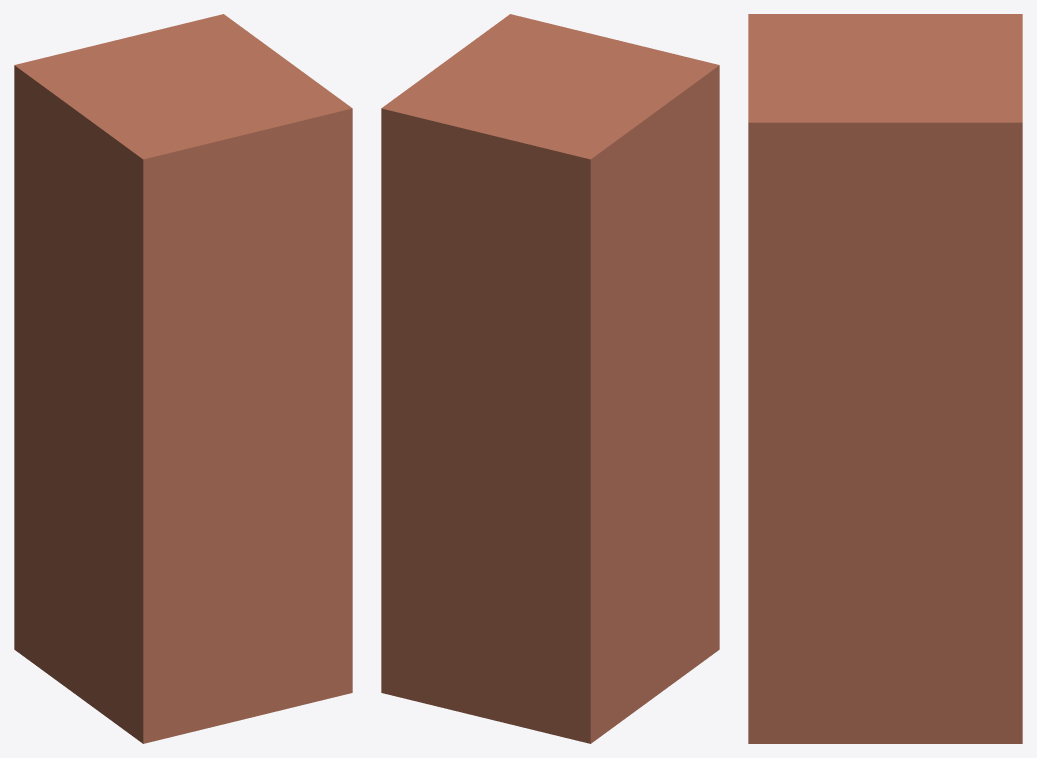
File: KIT_Brick_A.glb
3 views of the same model, side by side, from view 1: azimuth 30°, elevation 25°; view 2: azimuth 150°, elevation 25°; view 3: azimuth 270°, elevation 25° (orthographic). The views are drawn at different scales.
Visible parts, largest first — view 1: VIS_KIT_Brick_A_LOD0; view 2: VIS_KIT_Brick_A_LOD0; view 3: VIS_KIT_Brick_A_LOD0.
Boxes of the visible parts, x1=… form: VIS_KIT_Brick_A_LOD0: x1=14, y1=14, x2=352, y2=743; VIS_KIT_Brick_A_LOD0: x1=381, y1=14, x2=719, y2=743; VIS_KIT_Brick_A_LOD0: x1=748, y1=14, x2=1022, y2=743.
Size of what is drawn, in the model's own units: 0.3 by 0.8 by 0.32.
